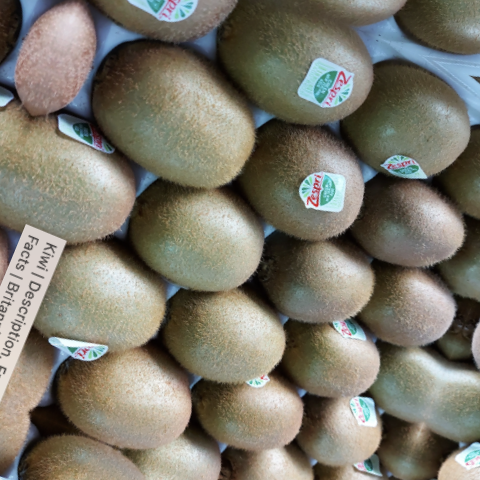kiwi: (62, 8, 301, 224), (2, 212, 198, 392), (22, 305, 220, 473), (0, 89, 173, 273), (199, 0, 397, 157), (139, 257, 313, 412), (221, 113, 385, 258), (323, 147, 480, 296), (176, 337, 326, 472), (261, 291, 399, 424), (259, 225, 396, 352)
